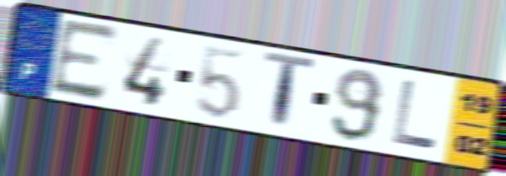4: (119, 34, 168, 109)
5: (194, 42, 246, 120)
9: (329, 66, 384, 145)
E: (47, 16, 121, 104)
L: (390, 77, 440, 153)
T: (262, 49, 319, 135)
